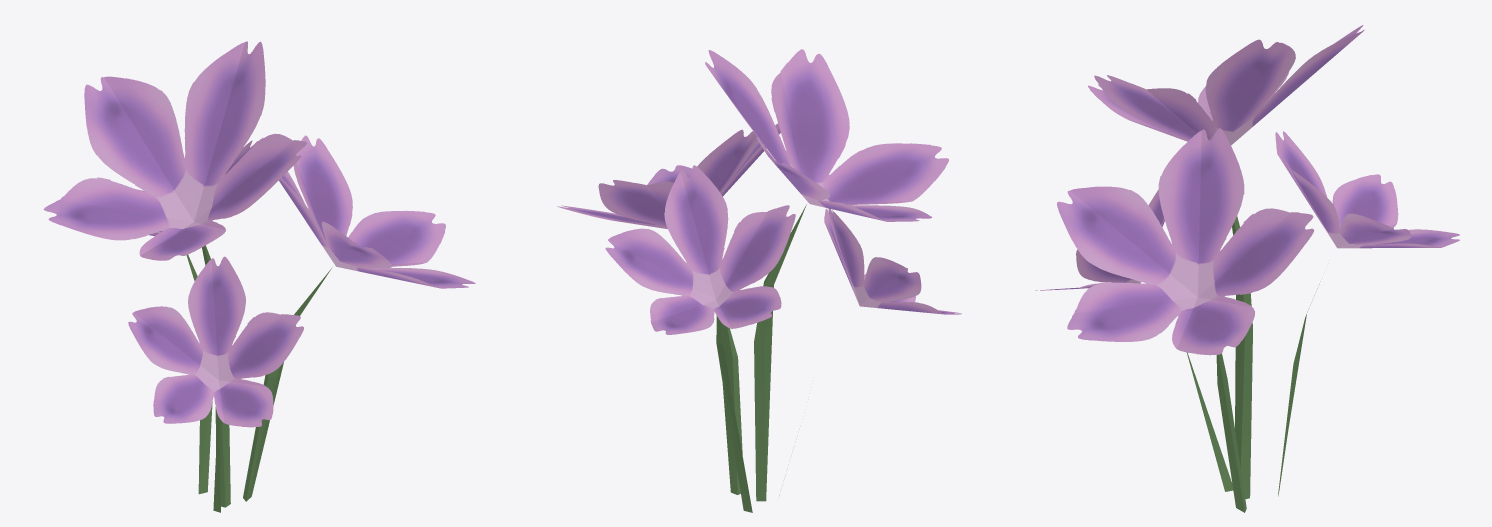
File: Flower_5_Clump.glb
The picture shows the model from 3 angles, left to right: view 1: azimuth 30°, elevation 25°; view 2: azimuth 150°, elevation 25°; view 3: azimuth 270°, elevation 25°; orthographic projection. The views are drawn at different scales.
Size of the model in its own units: 0.426 by 0.4508 by 0.3735.
1 material, 1 textured.
